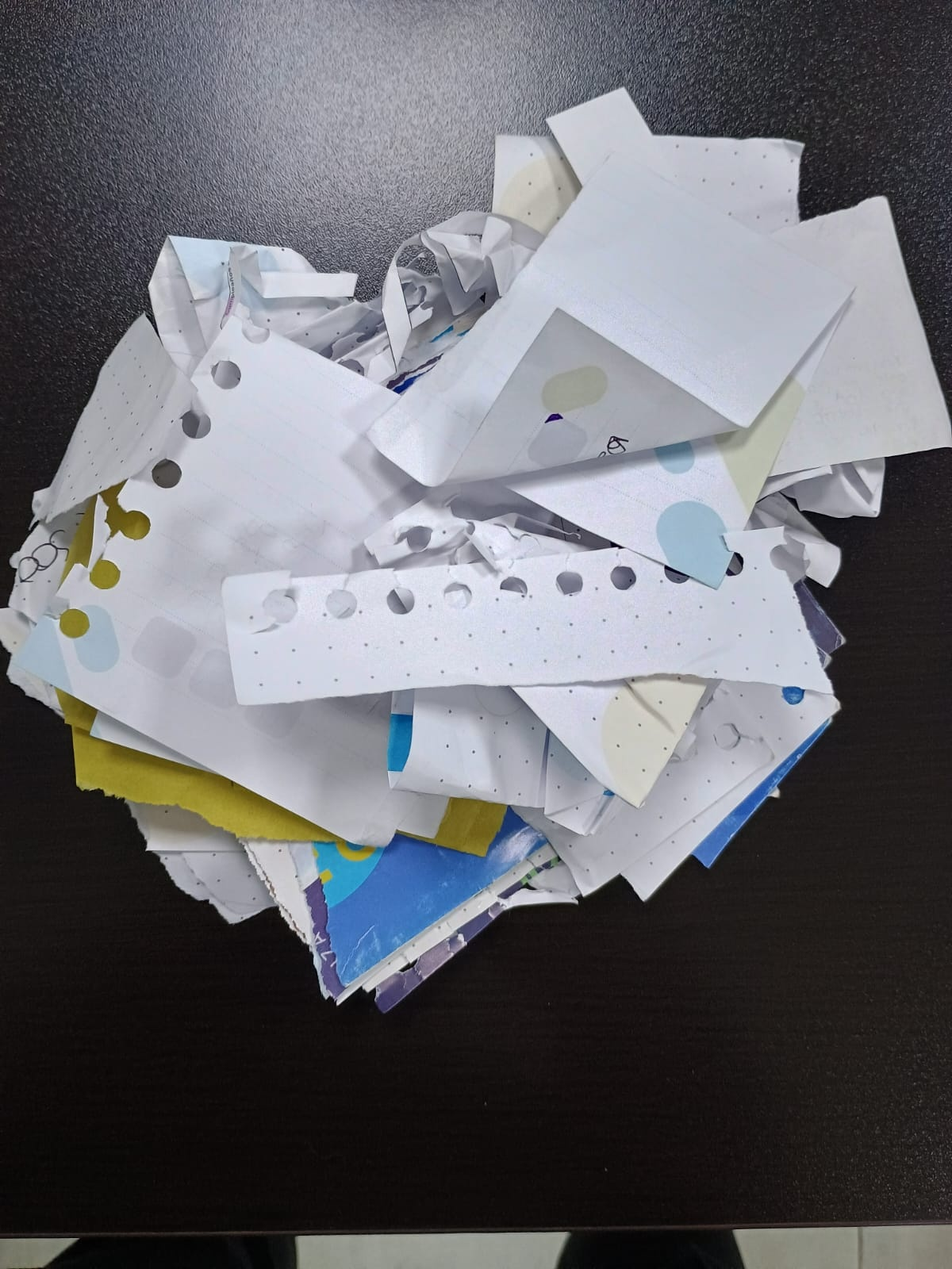Papel: (0, 87, 952, 1018)
